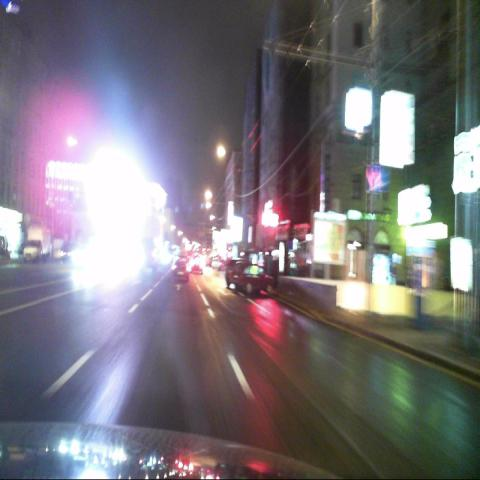6_6: (366, 166, 380, 194)
